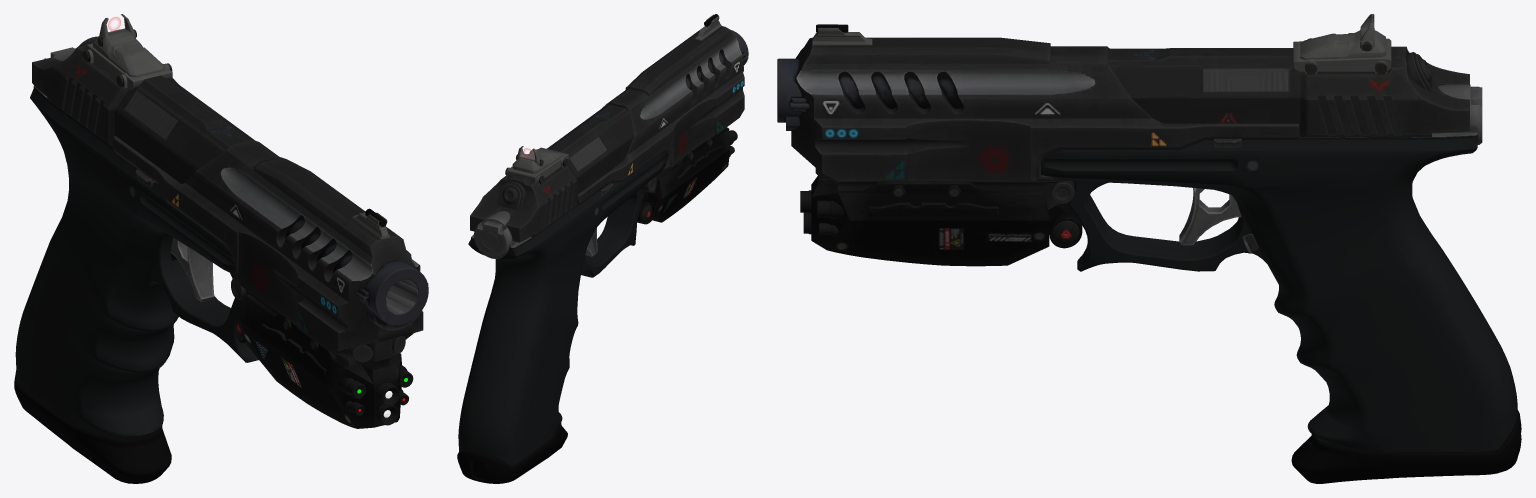
File: pistol_1.glb
3 views of the same model, side by side, from view 1: azimuth 30°, elevation 25°; view 2: azimuth 150°, elevation 25°; view 3: azimuth 270°, elevation 25° (orthographic). The views are drawn at different scales.
Parts seen in each view (by area): view 1: Object_5, Object_4, Object_23, Object_12, Object_21, Object_3, Object_10, Object_24, Object_2, Object_18; view 2: Object_5, Object_4, Object_23, Object_12, Object_21, Object_10, Object_3; view 3: Object_5, Object_4, Object_23, Object_12, Object_21, Object_3, Object_10, Object_24, Object_18.
Part boxes in pixels (x1,y1,x2,y2): Object_5: (15,47,258,438); Object_4: (112,136,423,367); Object_23: (32,36,254,183); Object_12: (235,294,413,428); Object_21: (14,370,171,483); Object_3: (285,216,428,330); Object_10: (86,14,172,89); Object_24: (171,237,214,301); Object_2: (386,279,418,314); Object_18: (351,212,390,239); Object_5: (458,152,665,466); Object_4: (577,26,744,204); Object_23: (470,105,633,242); Object_12: (637,127,737,224); Object_21: (457,422,567,483); Object_10: (506,146,568,184); Object_3: (685,30,748,89); Object_5: (1041,84,1517,451); Object_4: (791,37,1298,209); Object_23: (1107,46,1469,136); Object_12: (800,176,1082,266); Object_21: (1291,410,1521,483); Object_3: (777,58,963,130); Object_10: (1293,14,1391,73); Object_24: (1179,188,1241,245); Object_18: (812,24,872,45).
Size of the model in its own units: 0.0329 by 0.1536 by 0.2263.
Materials: 9 (9 with a texture image).
